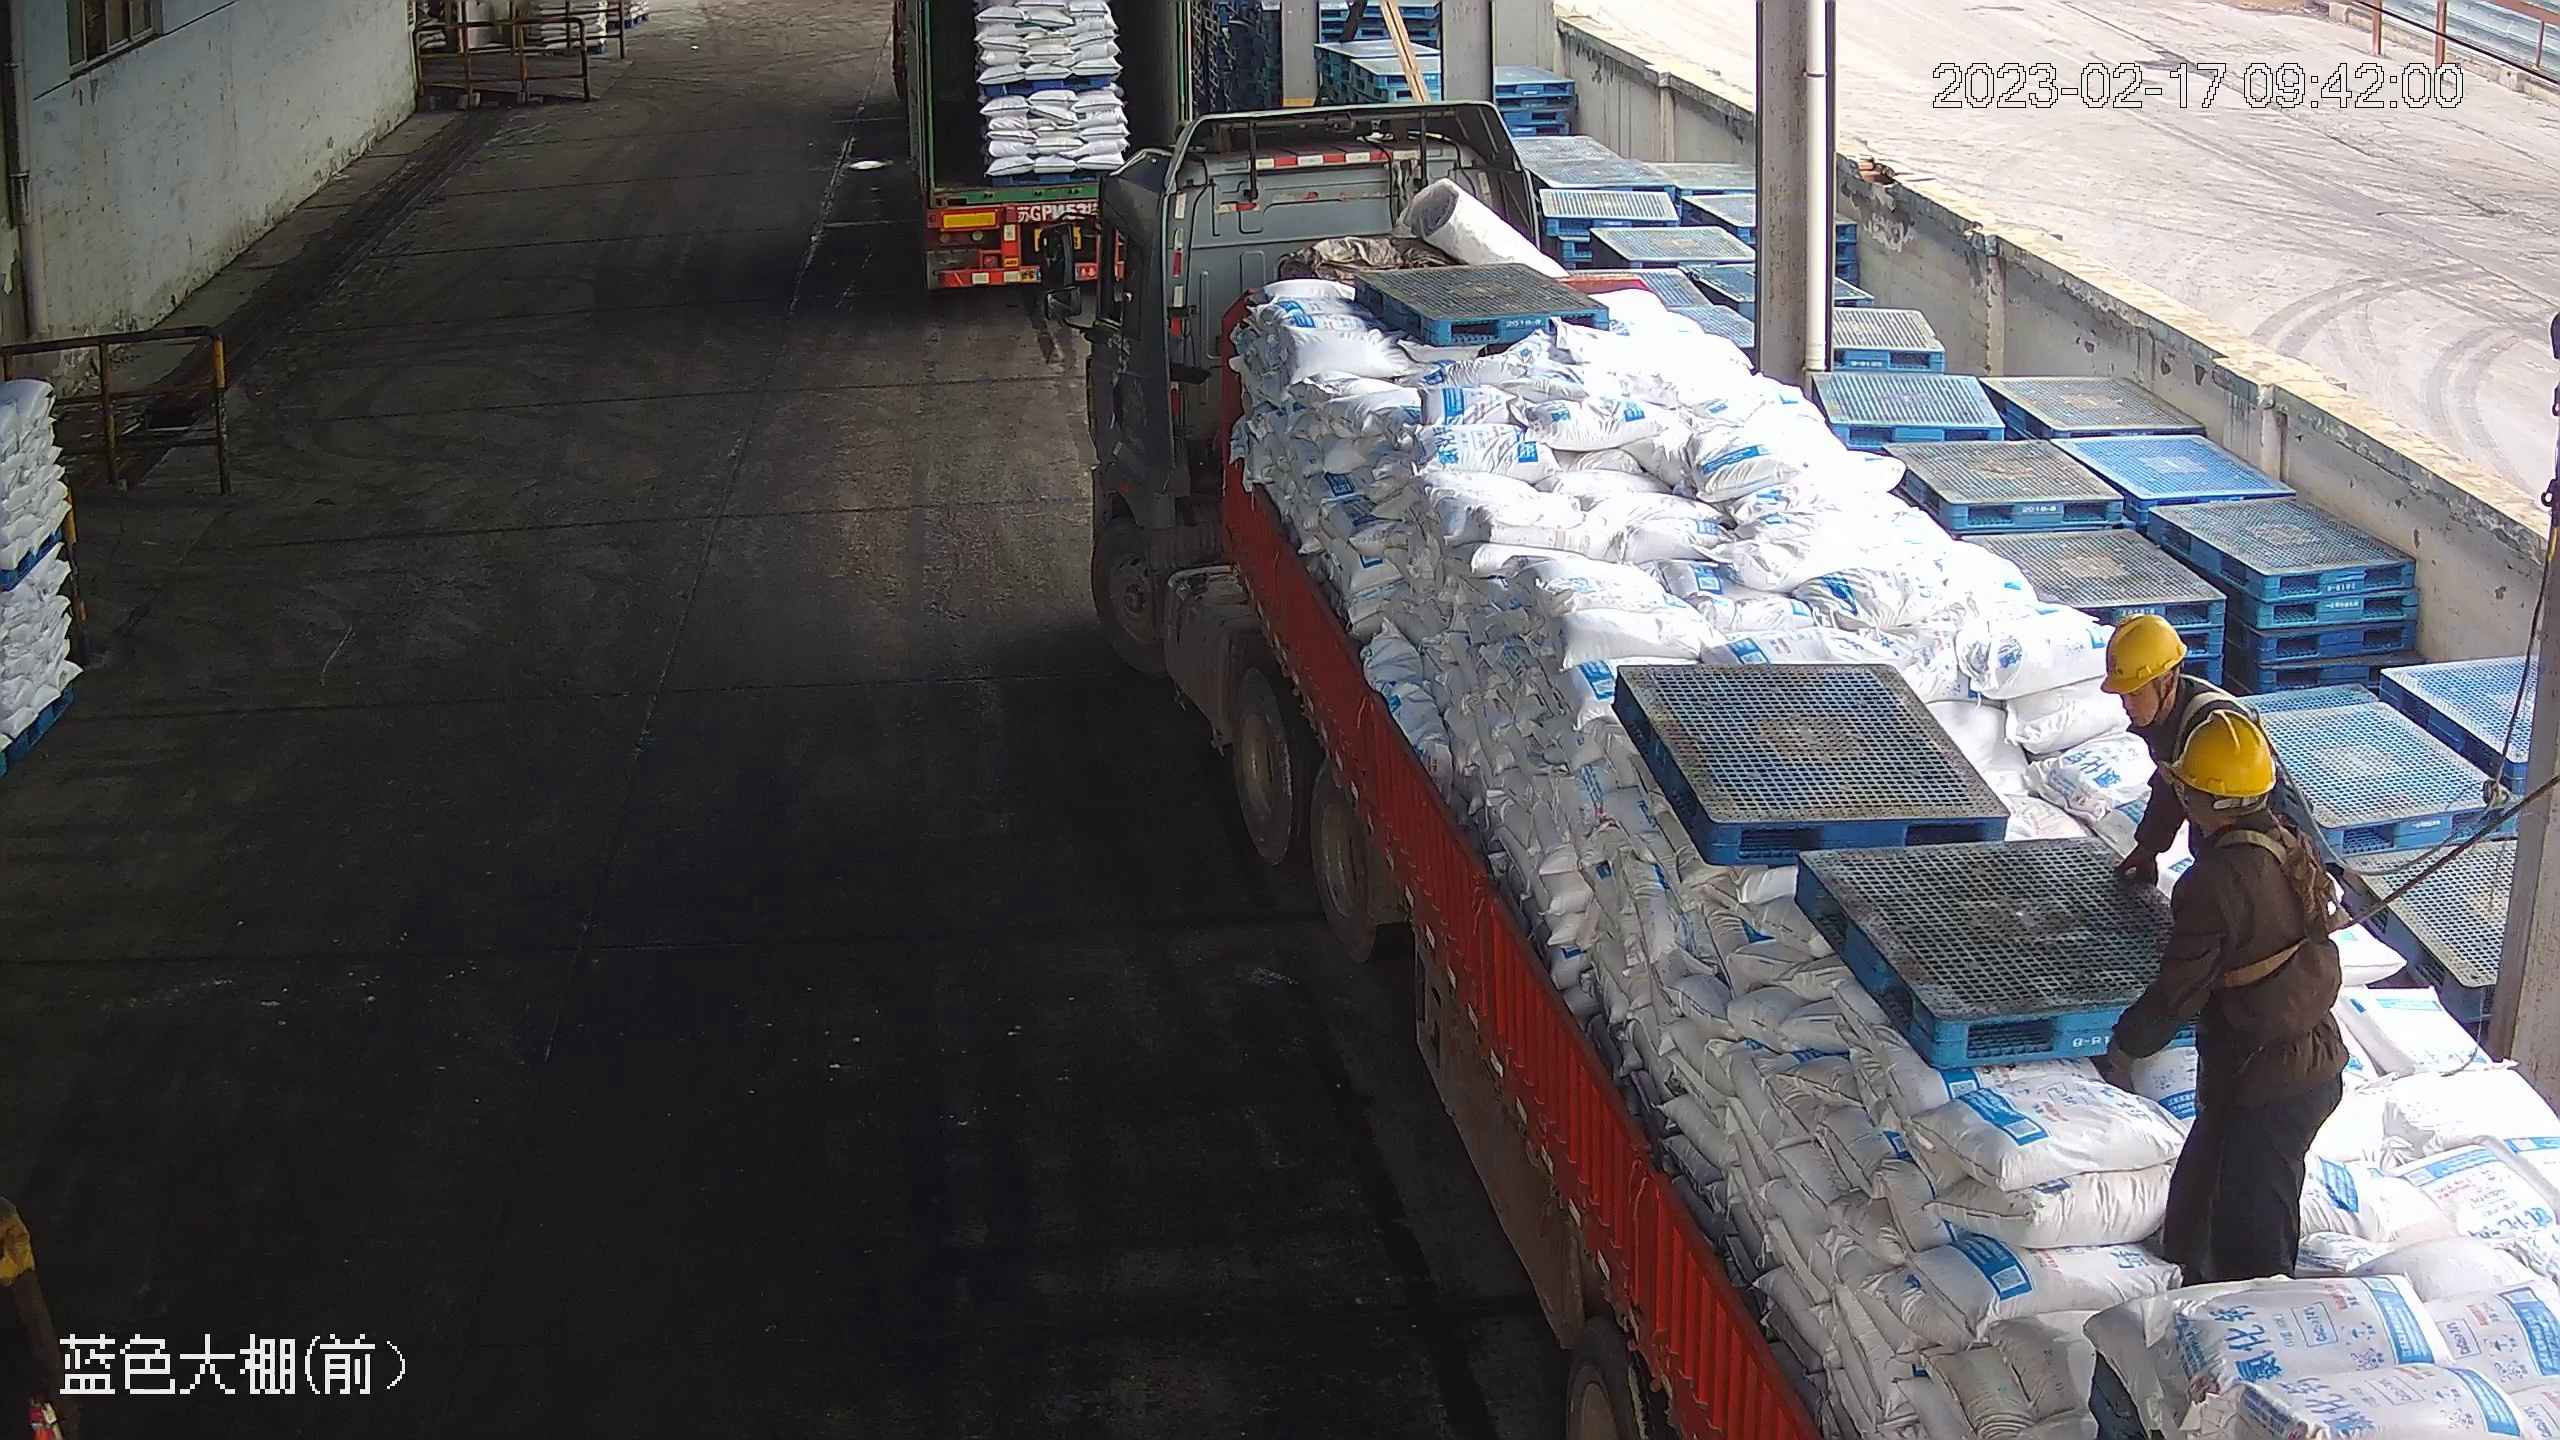belt: (2205, 822, 2354, 988)
head: (2155, 706, 2326, 908), (2094, 611, 2243, 754)
helmet: (2161, 704, 2281, 801), (2095, 610, 2188, 695)
people: (2092, 707, 2354, 1293)
truck: (1035, 100, 2535, 1440), (888, 4, 1186, 293)
